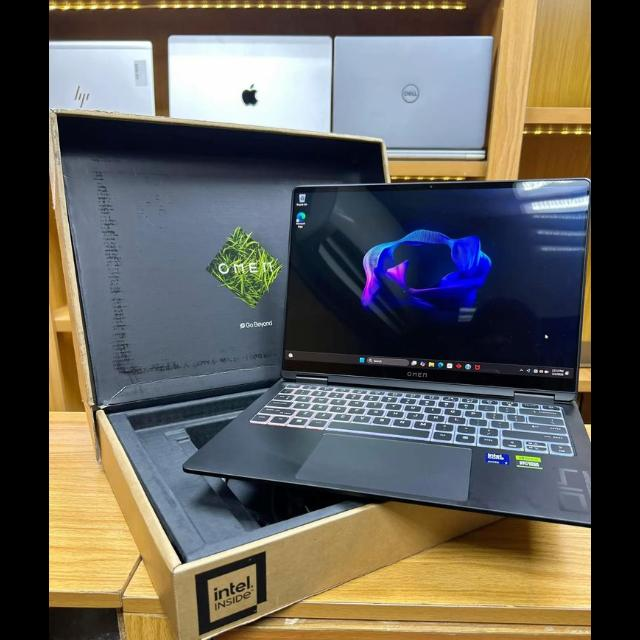laptop: (184, 178, 591, 524)
